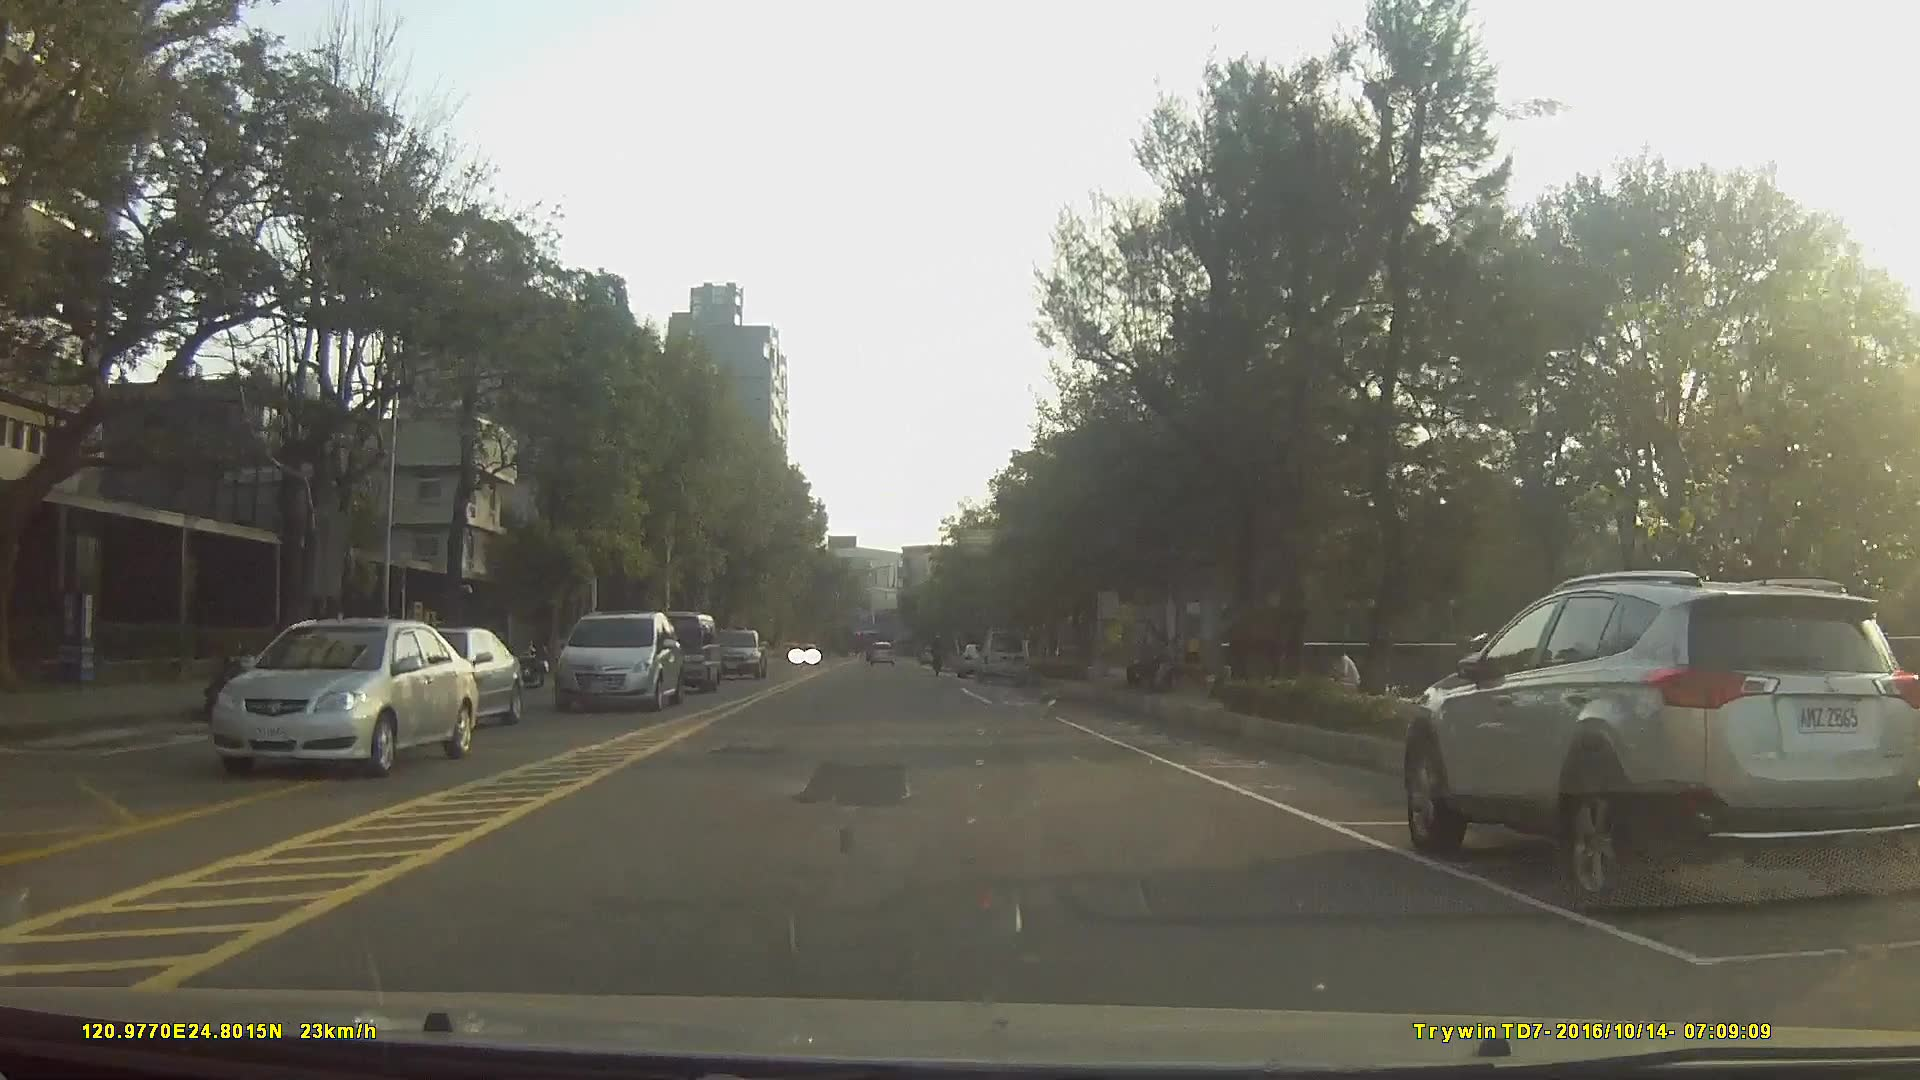rider: (929, 634, 949, 678)
vehicle: (1398, 565, 1920, 913), (204, 615, 478, 777), (386, 623, 524, 732), (549, 610, 681, 712), (630, 609, 718, 690), (970, 625, 1034, 679), (708, 626, 764, 678), (954, 640, 990, 678), (864, 637, 894, 667)
